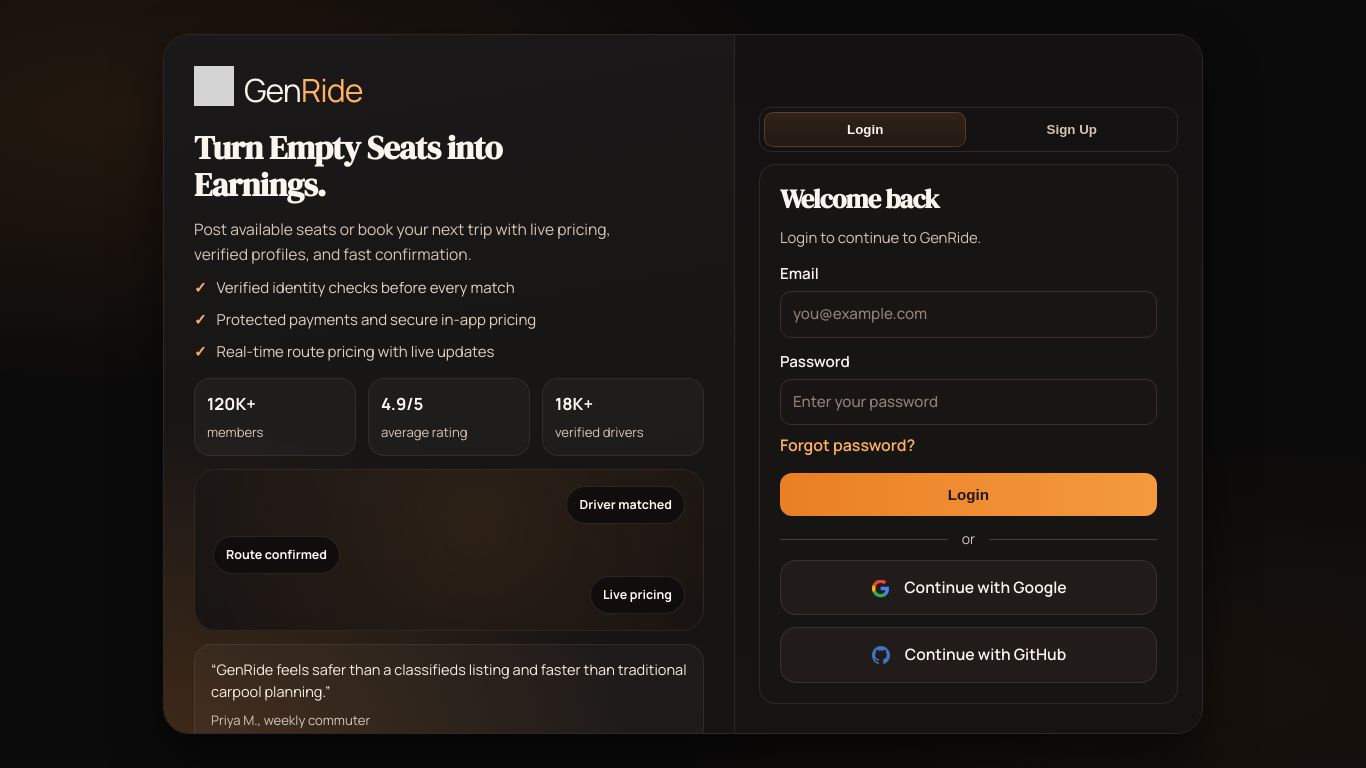
Test case: RideX auth page › switches from login to signup and shows the signup fields
Click the tab "Sign Up".
click(1073, 130)  # box [971,112,1174,147]
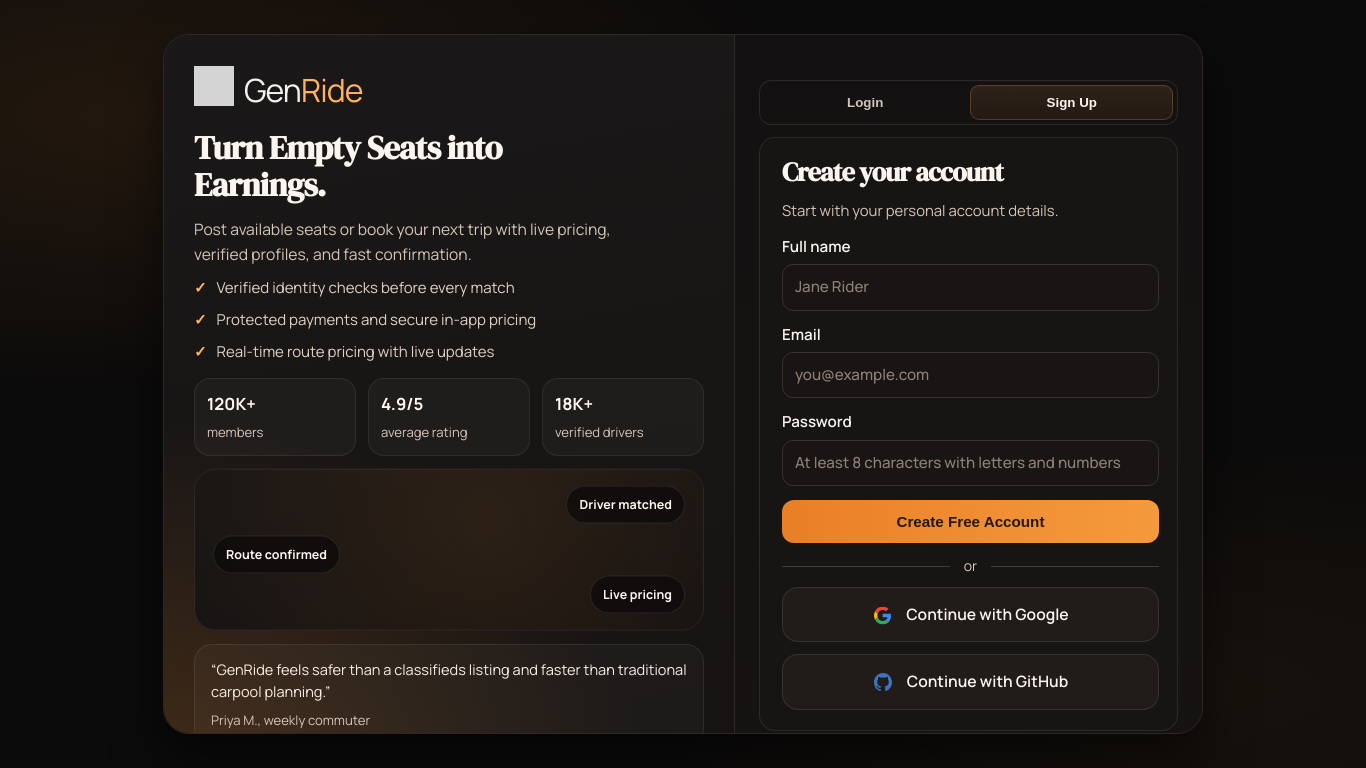
Expected: the text "Full name" is shown, [782,235,1159,311]
Expected: the button "Create Free Account" is shown, [782,500,1159,543]
